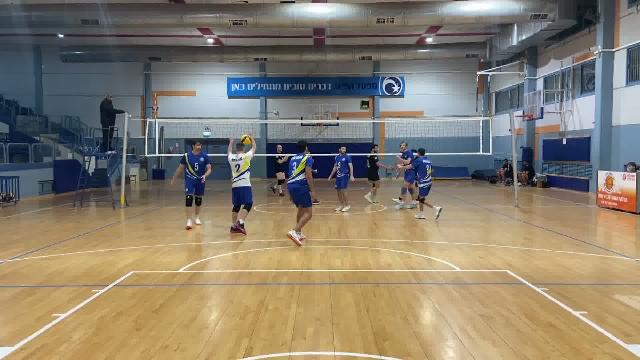ball: (241, 135, 253, 147)
